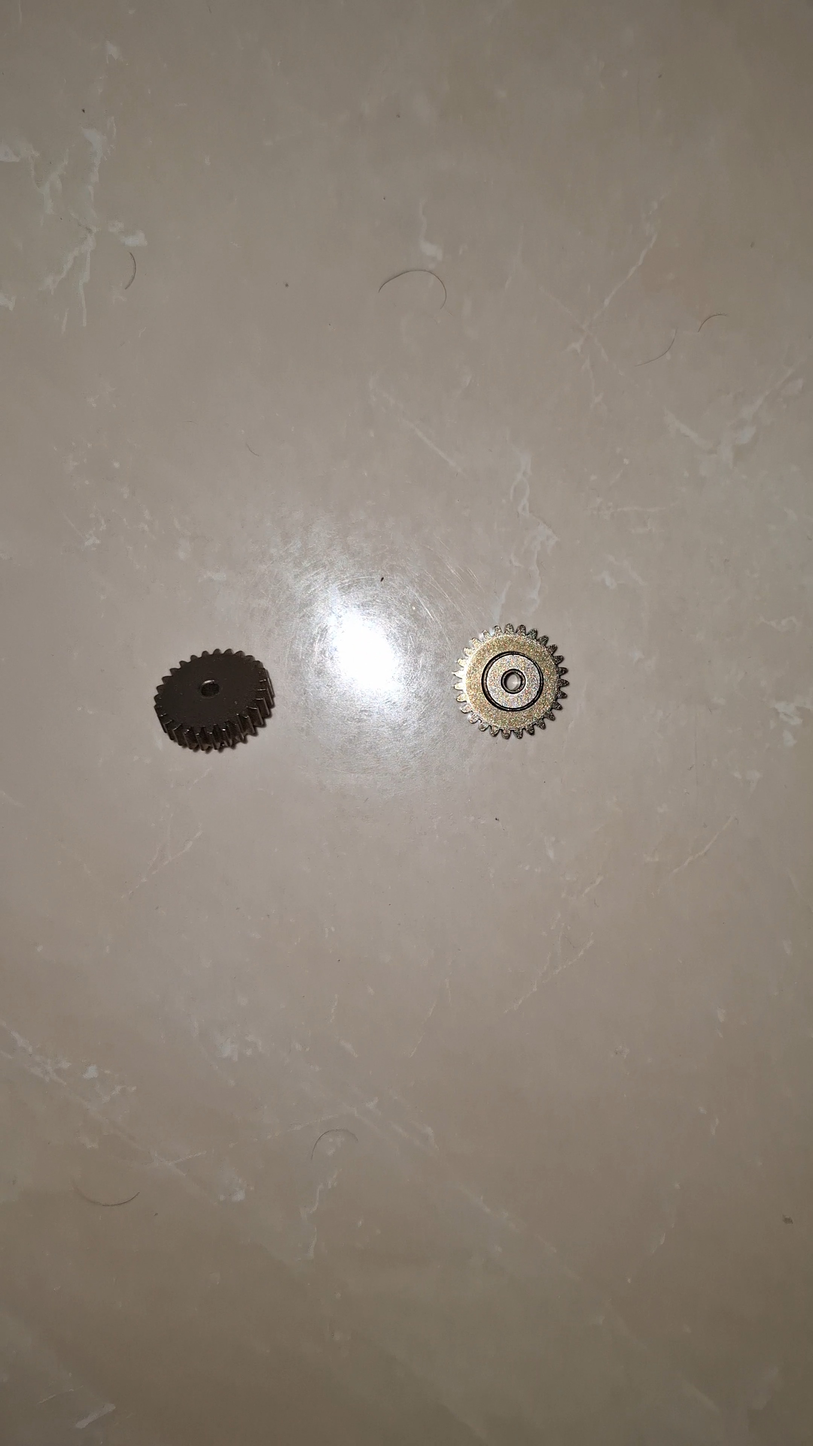spur gear: (454, 624, 569, 738), (154, 650, 273, 751)
